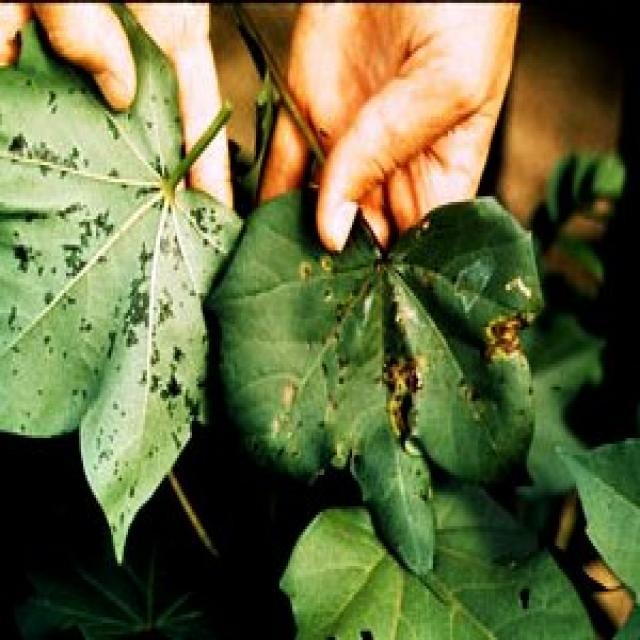Bacterial Blight: (246, 224, 526, 486)
